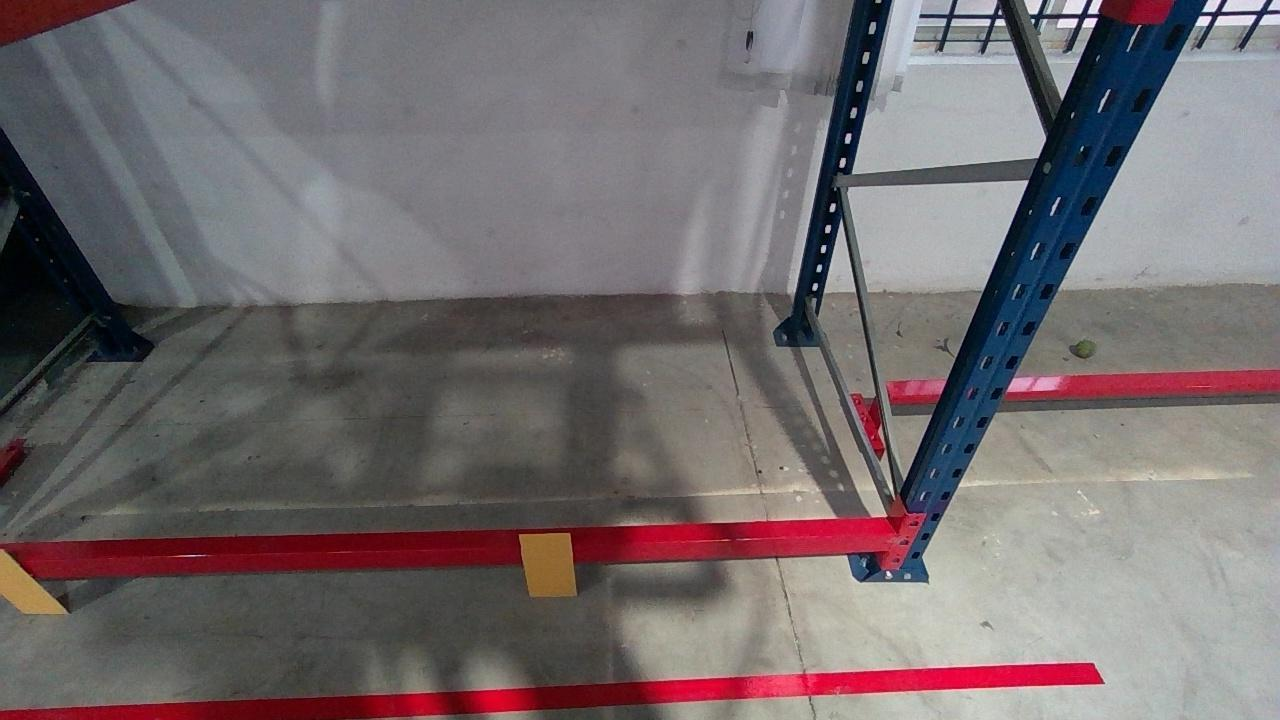h_rack: (1, 524, 907, 578)
orange_strip: (0, 547, 65, 613), (515, 533, 576, 596)
red_line: (0, 662, 1102, 720)
